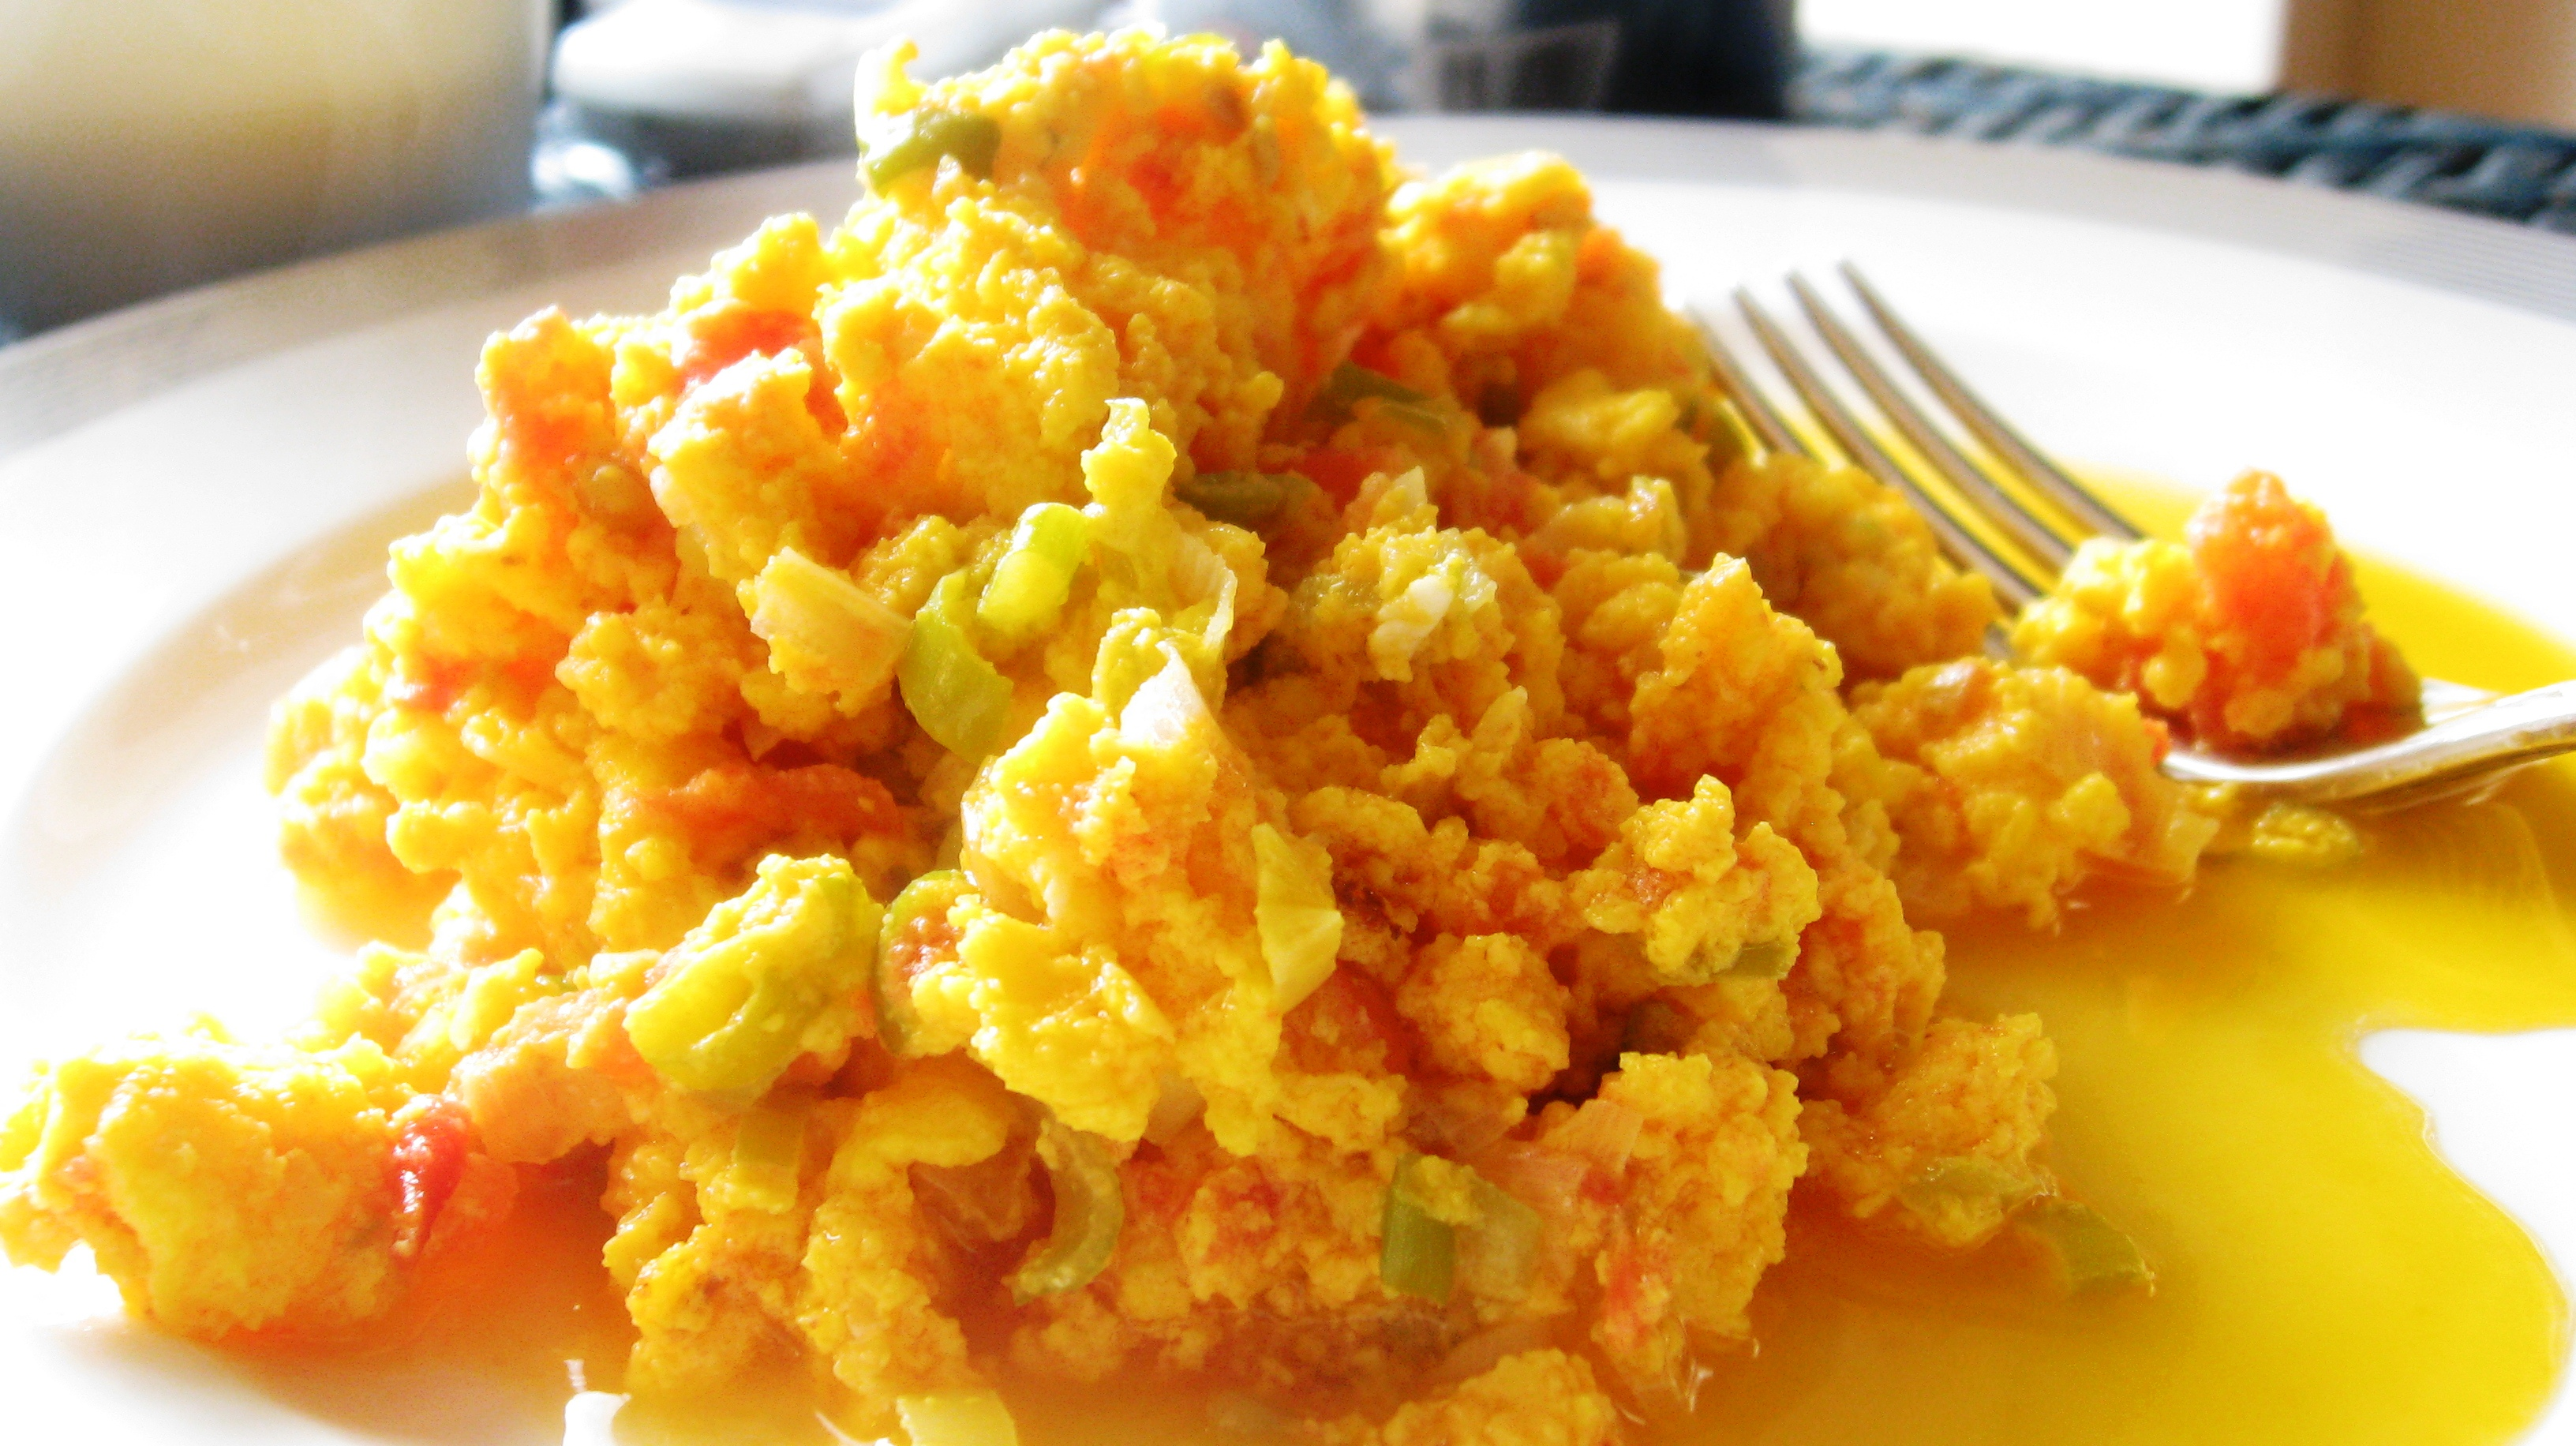egg: (267, 7, 2288, 1446)
